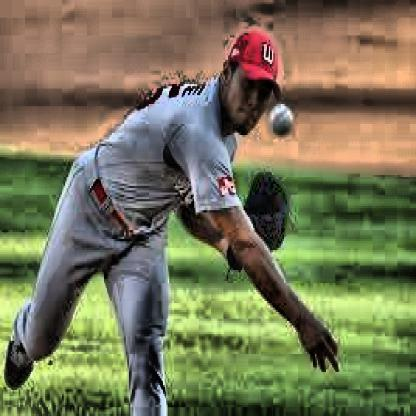baseball: (269, 102, 295, 137)
